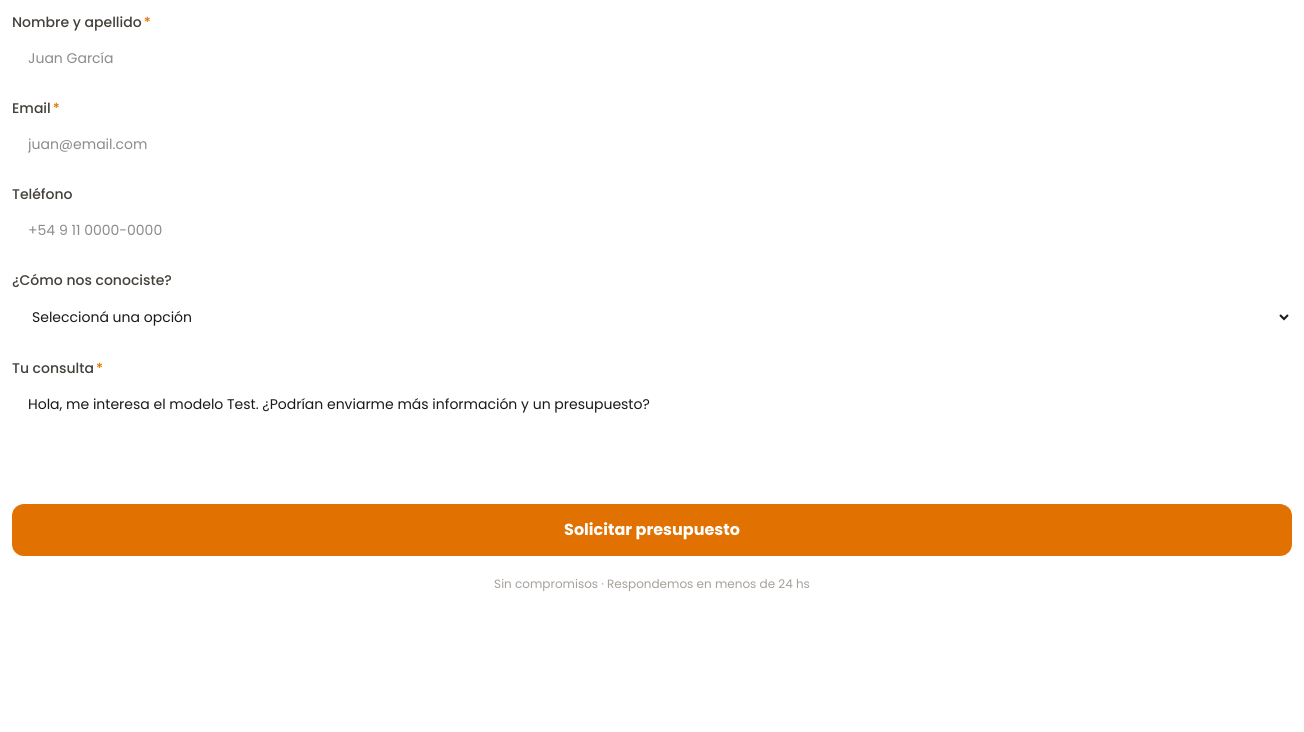
Test case: ContactForm › muestra error si nombre está vacío al enviar
The image size is (1304, 732).
Click the button "Solicitar presupuesto": (652, 530) [12,504,1292,556]
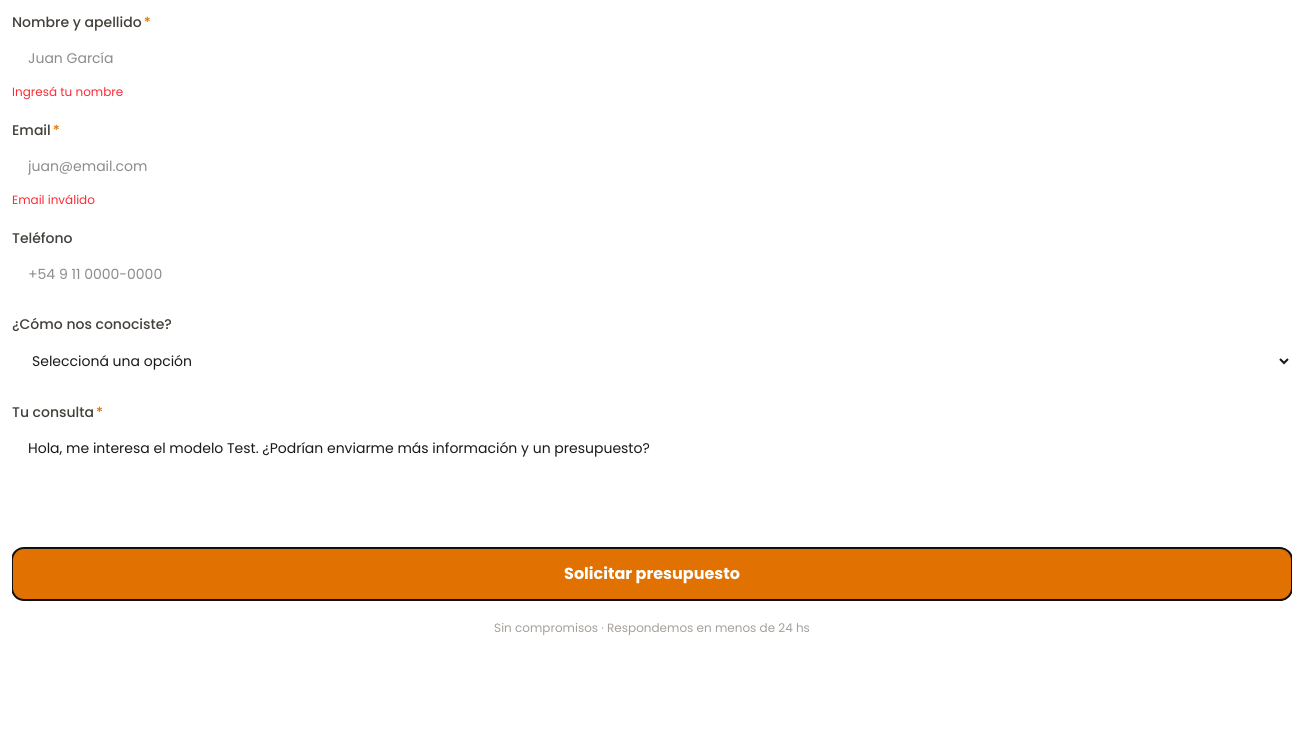
Expected: the text "Ingresá tu nombre" is shown, [12,83,123,100]
